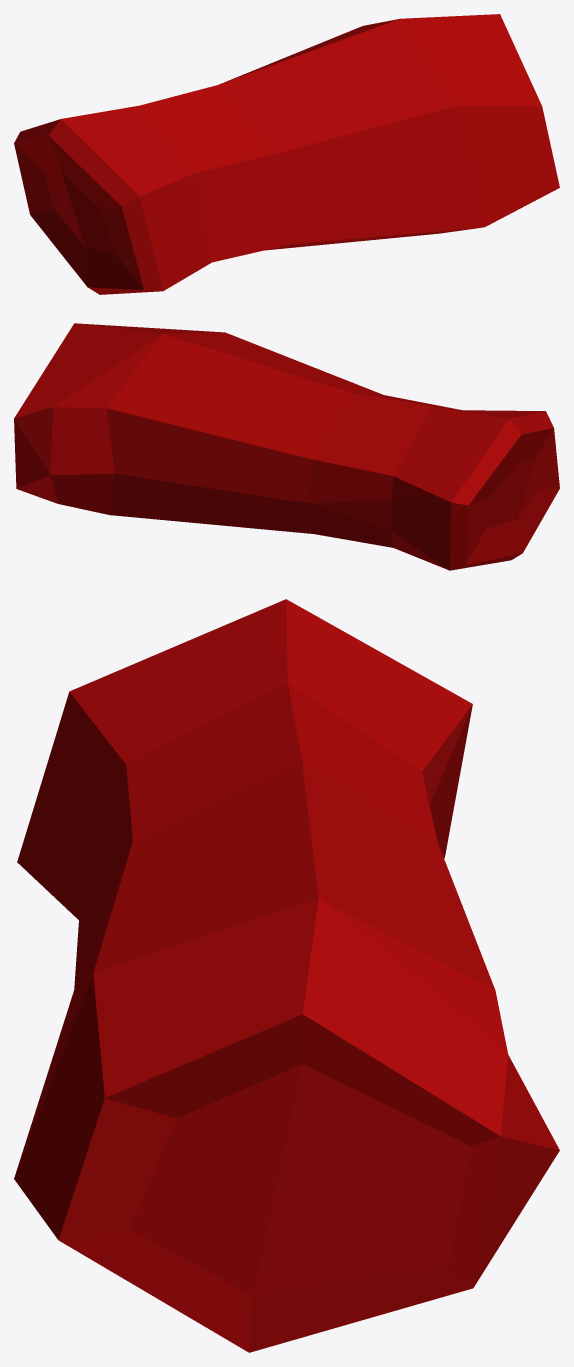
File: Chr_ArmLowerRight_Male_Static_17.fbx
3 renders of one model, top to bottom at view 1: azimuth 30°, elevation 25°; view 2: azimuth 150°, elevation 25°; view 3: azimuth 270°, elevation 25°, orthographic. The views are drawn at different scales.
Visible parts, largest first — view 1: Chr_ArmLowerRight_Male_17; view 2: Chr_ArmLowerRight_Male_17; view 3: Chr_ArmLowerRight_Male_17.
Part boxes in pixels (left/top/right/bottom): Chr_ArmLowerRight_Male_17: left=14, top=14, right=559, bottom=294; Chr_ArmLowerRight_Male_17: left=14, top=323, right=559, bottom=570; Chr_ArmLowerRight_Male_17: left=14, top=599, right=559, bottom=1352.
Size of the model in its own units: 29.6 by 12.21 by 16.
